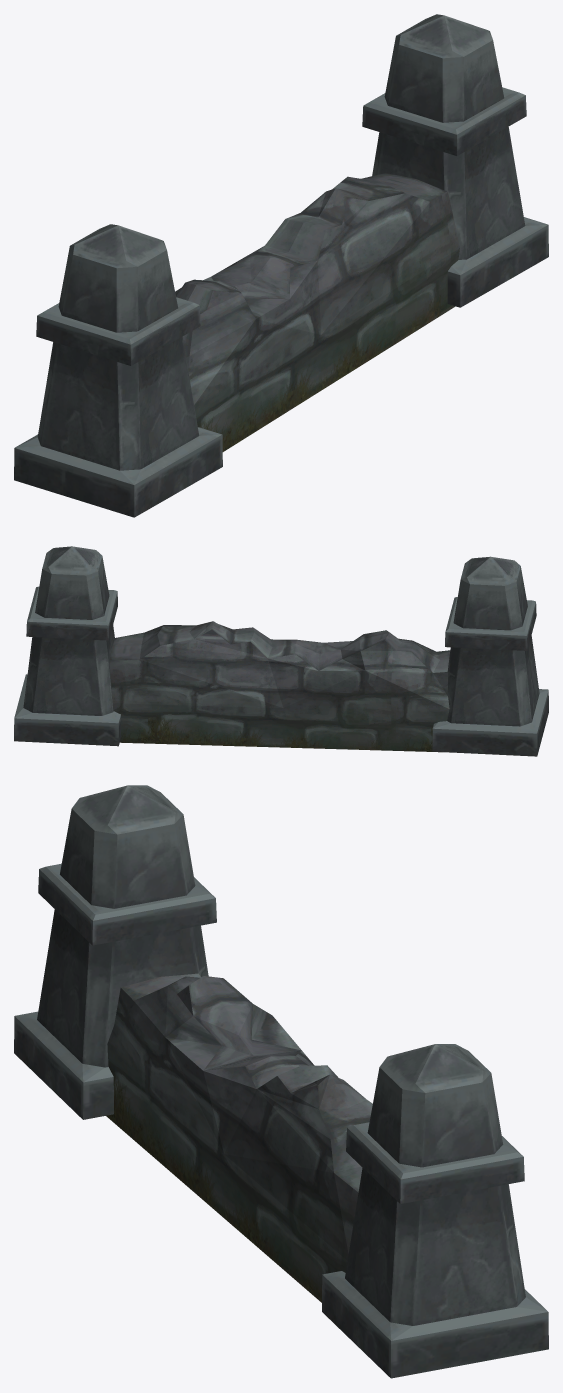
Rendered from object_stonewalls02.fbx.
3 views of the same model, one above another, from view 1: azimuth 30°, elevation 25°; view 2: azimuth 150°, elevation 25°; view 3: azimuth 270°, elevation 25° (orthographic). The views are drawn at different scales.
Visible parts, largest first — view 1: obj1.029; view 2: obj1.029; view 3: obj1.029.
Part boxes in pixels (x1,y1,x2,y2): obj1.029: (14, 14, 548, 517); obj1.029: (14, 546, 548, 756); obj1.029: (14, 785, 548, 1378).
Bounding box in the file's own units: 5.84 × 2.27 × 3.72.
